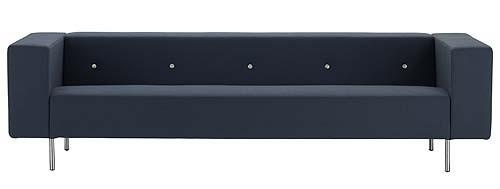sofa: (8, 32, 493, 173)
